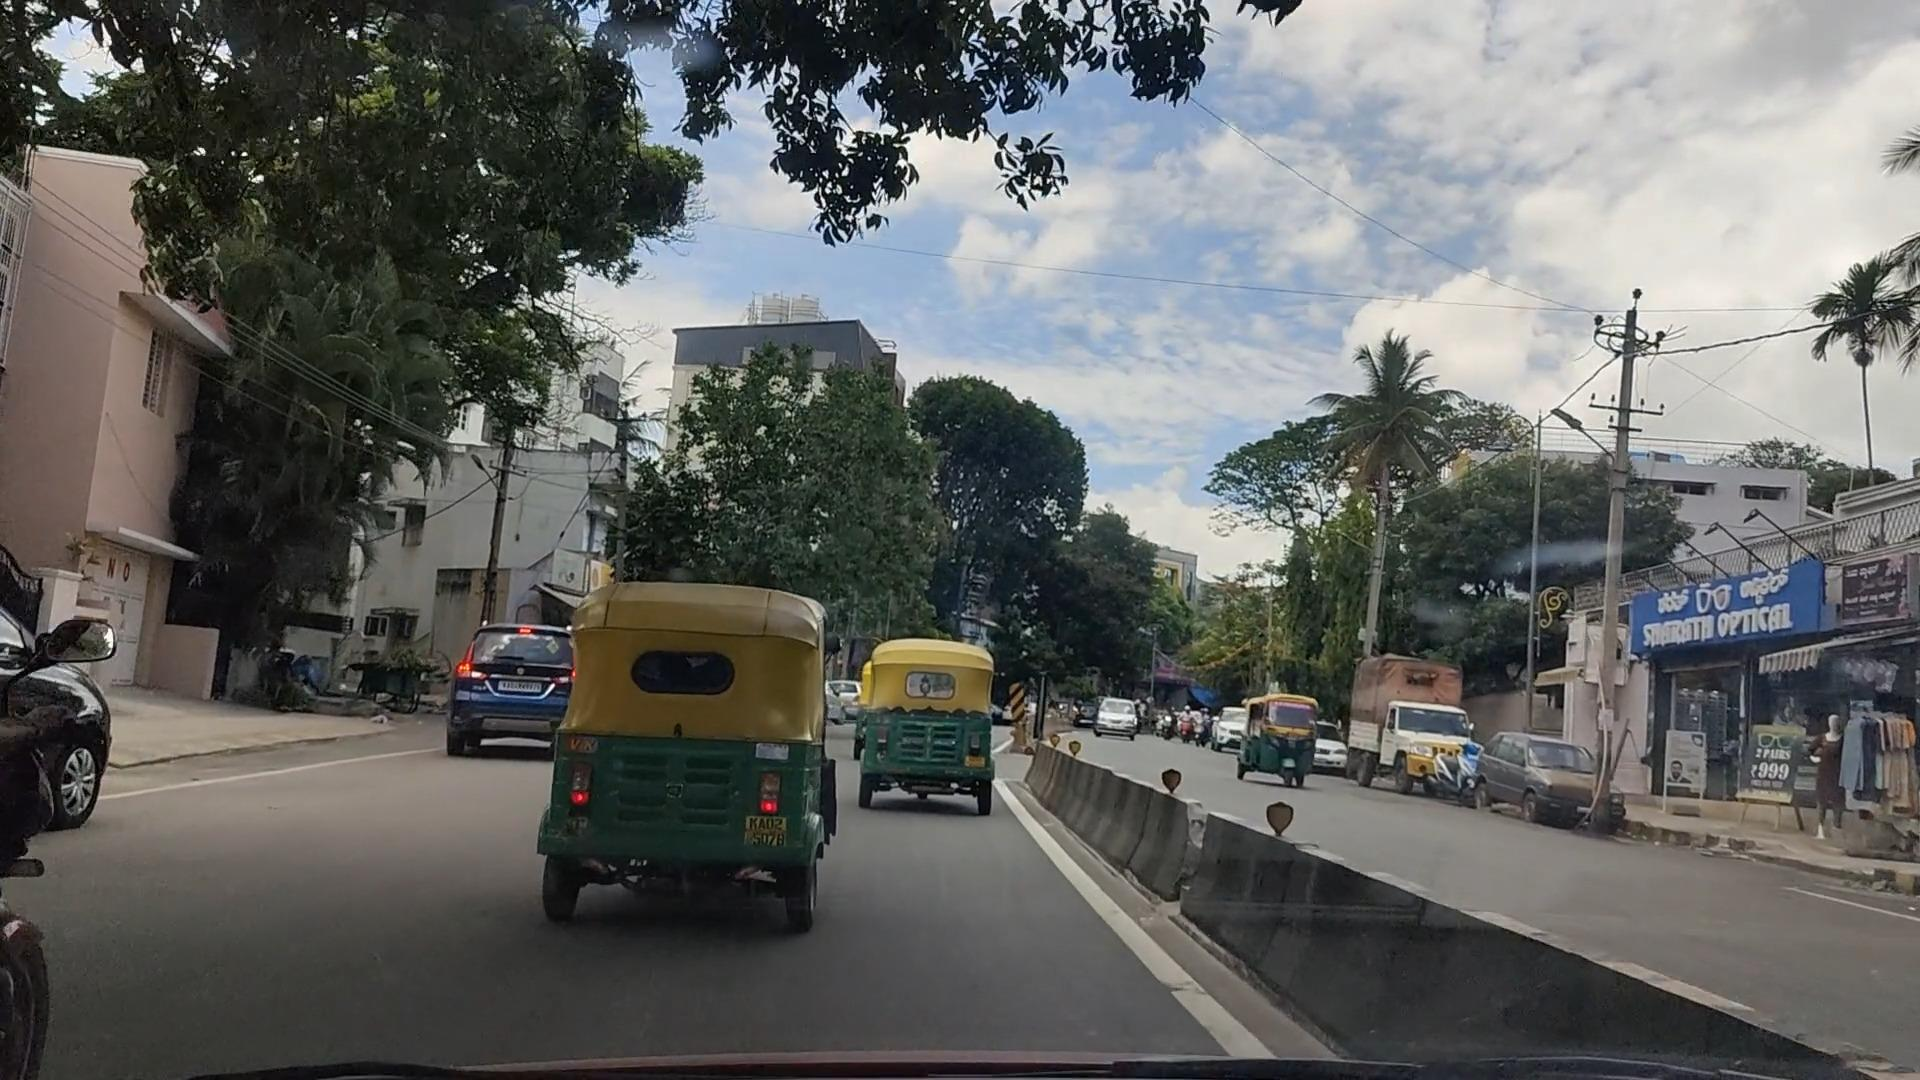LMV: (585, 588, 822, 928), (865, 633, 1017, 839), (454, 622, 563, 740)
